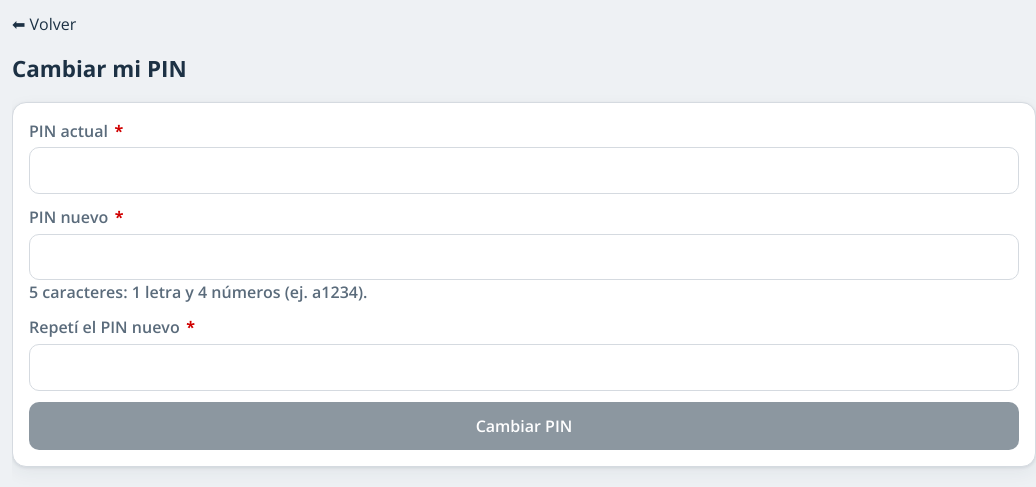
Test case: ChangePin › envía los PIN y muestra la confirmación
Type "a1234" into the password field labelled "PIN actual *".
click(524, 171); type("a1234")  # box [29,147,1019,194]
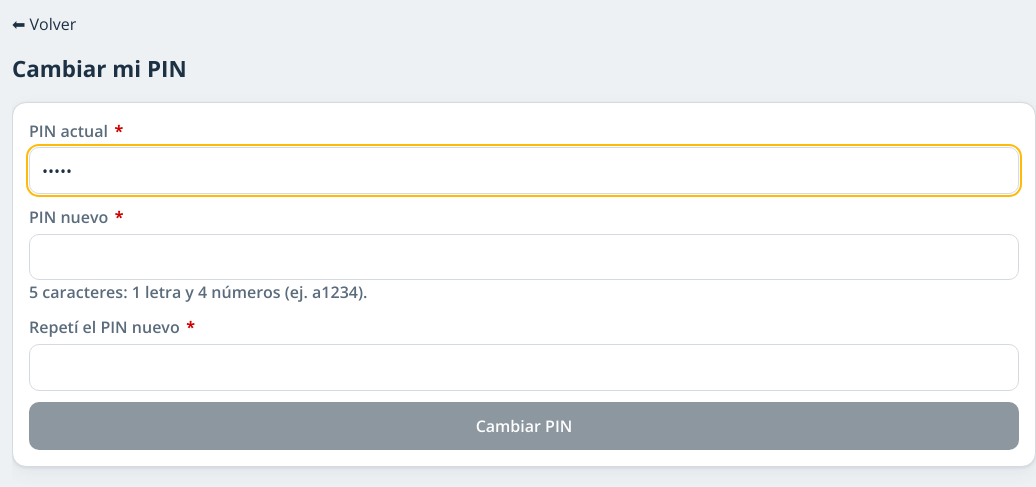
Type "z4321" into the password field labelled "PIN nuevo * 5 caracteres: 1 letra y 4 números (ej. a1234).".
click(524, 257); type("z4321")  # box [29,234,1019,280]
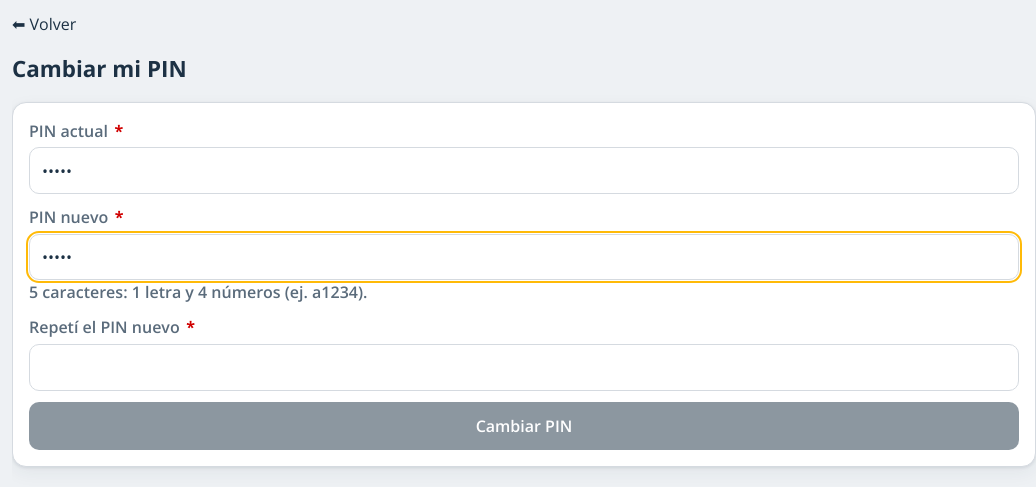
Type "z4321" into the password field labelled "Repetí el PIN nuevo *".
click(524, 367); type("z4321")  # box [29,344,1019,390]
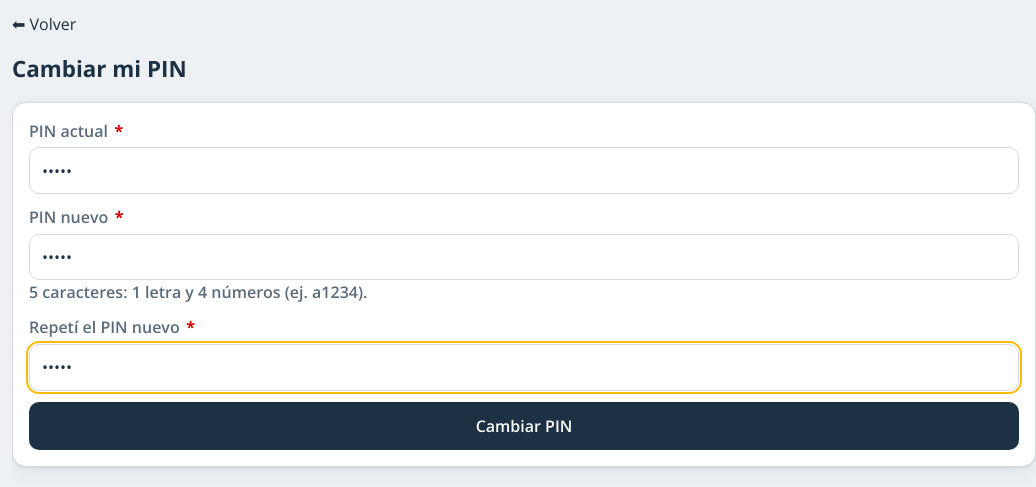
Click the button "Cambiar PIN".
click(524, 426)  # box [29,402,1019,450]
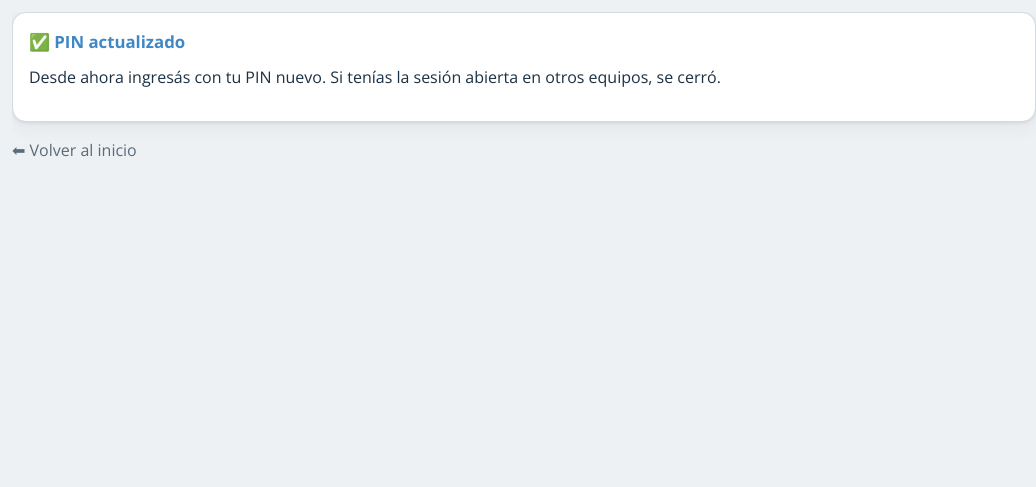
Expected: the heading "✅ PIN actualizado" is shown, [29,30,185,53]
